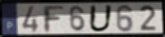2: (138, 4, 158, 32)
4: (21, 5, 41, 34)
6: (116, 4, 135, 34), (69, 5, 87, 33)
F: (41, 5, 67, 34)
U: (87, 4, 114, 34)
